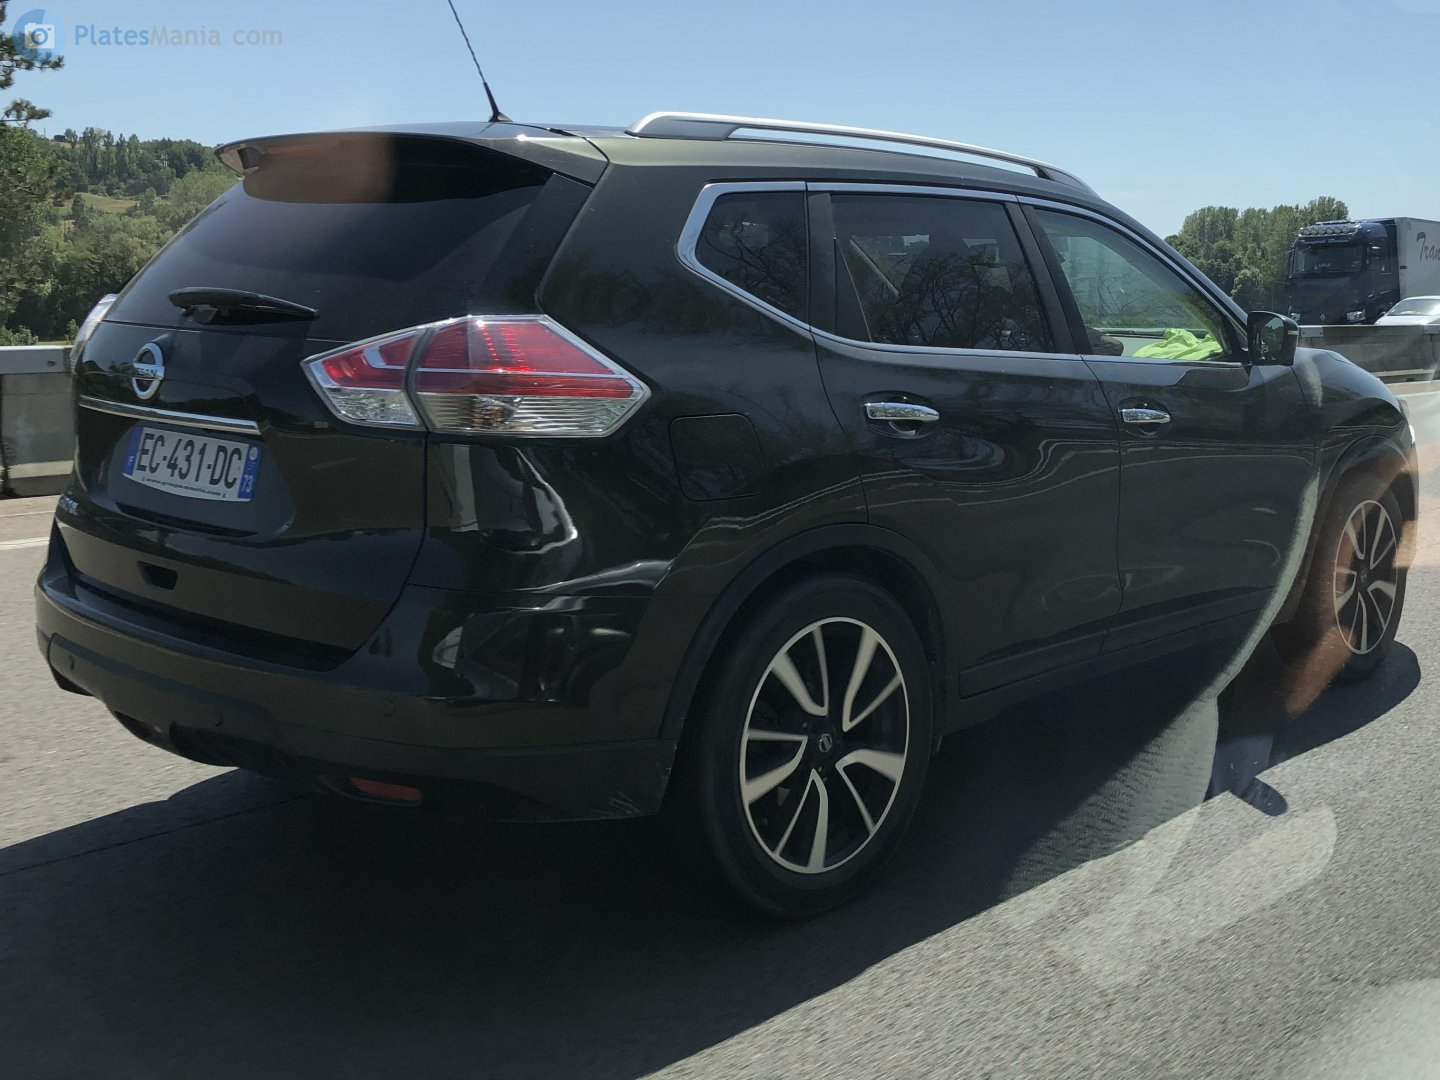licence plate: (115, 417, 265, 506)
